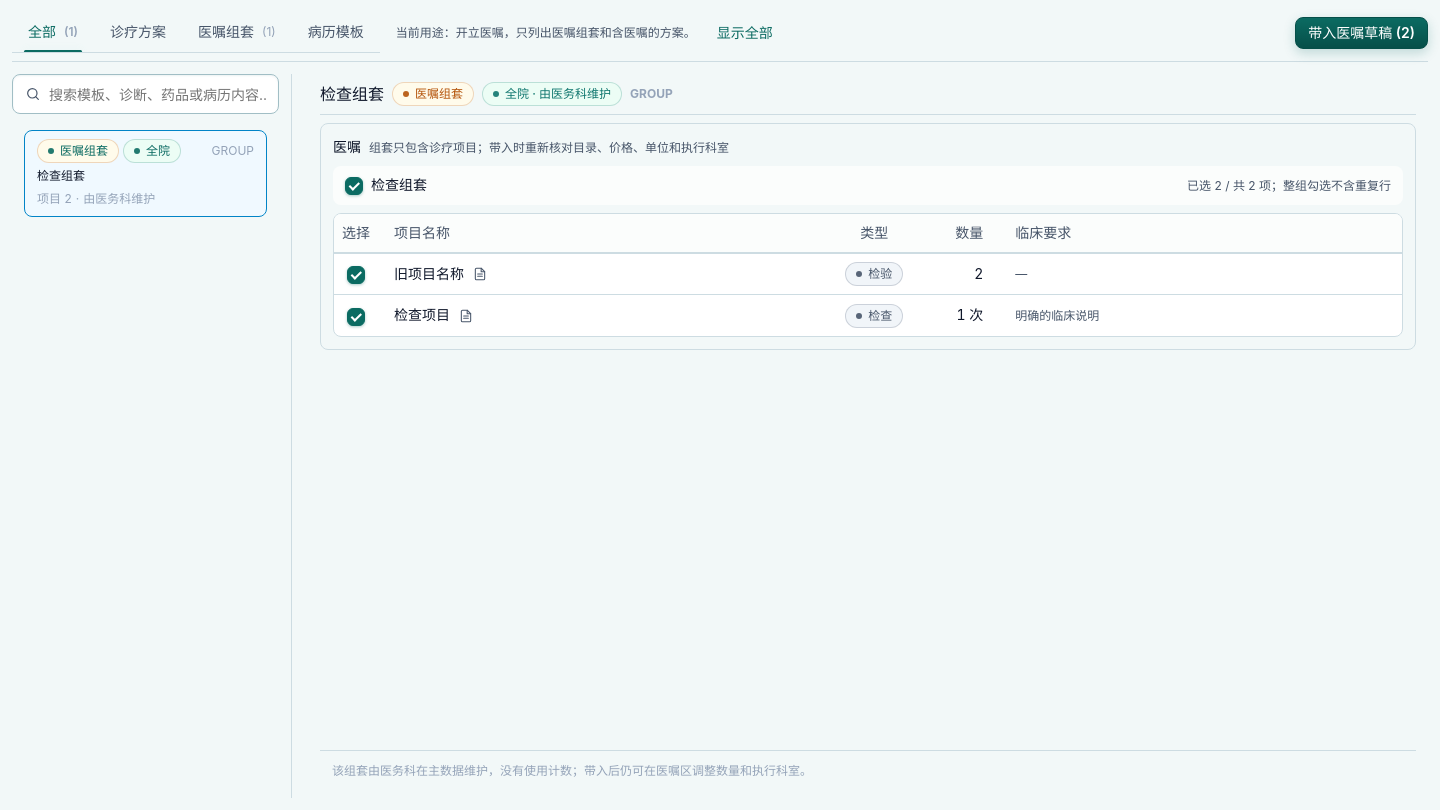
Test: order rows: duplicates, whole-group selection, validation failures › reports an error without closing when every selected row fails
The width and height of the screenshot is (1440, 810).
Click the button "带入医嘱草稿 (2)" at (1362, 32), box [1295,16,1428,48]
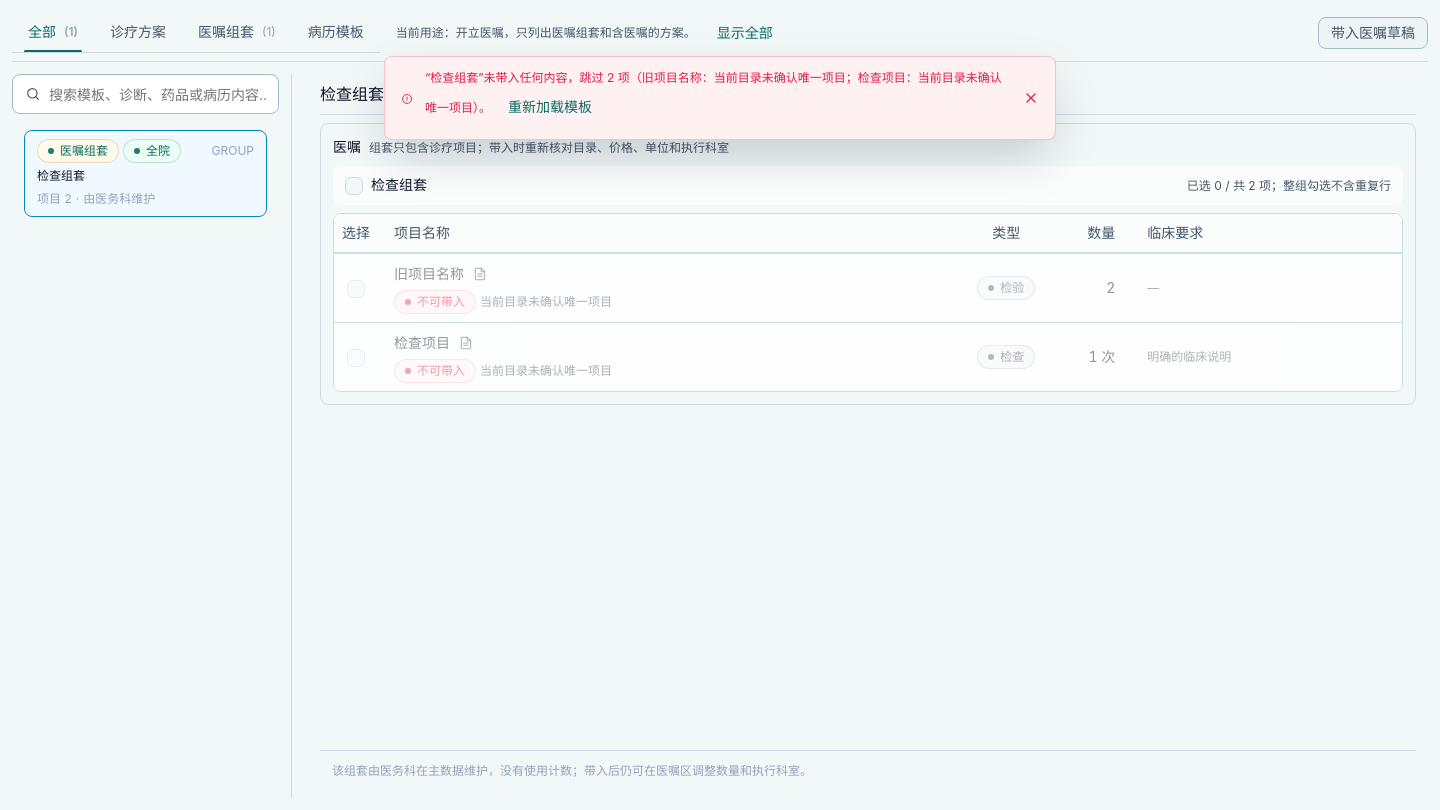
Now the message shows "未带入任何内容，跳过 2 项", box [425,70,1002,115]
Now the text "不可带入" is shown 2 times, box [394,290,476,314]; [394,359,476,383]
